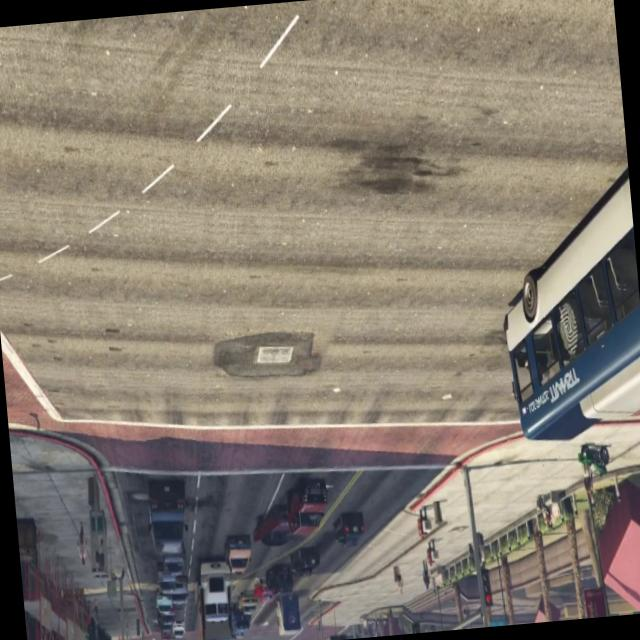Red-Signal: (478, 556, 496, 612), (408, 616, 424, 634)
